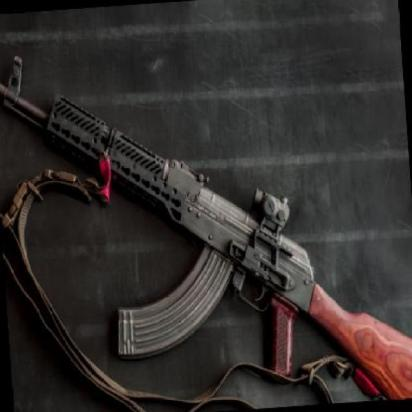Gun: (4, 56, 394, 370)
